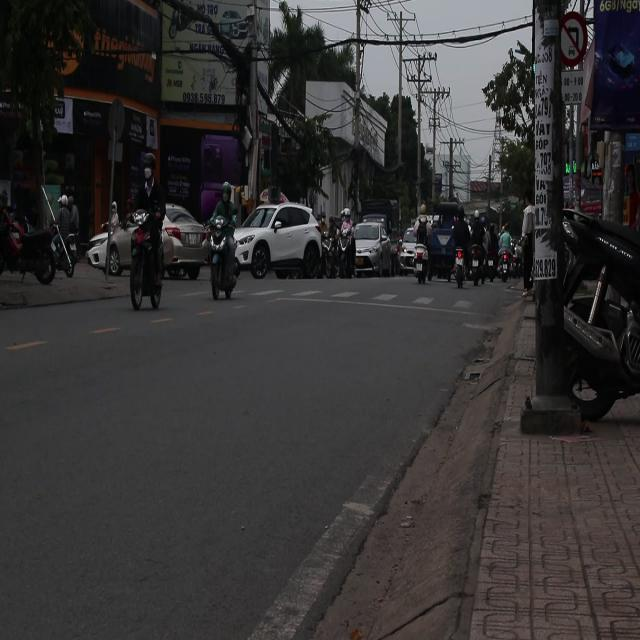car: (234, 203, 324, 281), (162, 206, 212, 282), (354, 222, 394, 278), (399, 229, 424, 273)
motorbike: (546, 190, 640, 426), (128, 209, 171, 310), (0, 208, 55, 285), (202, 214, 242, 300), (497, 242, 521, 283), (467, 242, 486, 286)
truck: (358, 199, 399, 240)
